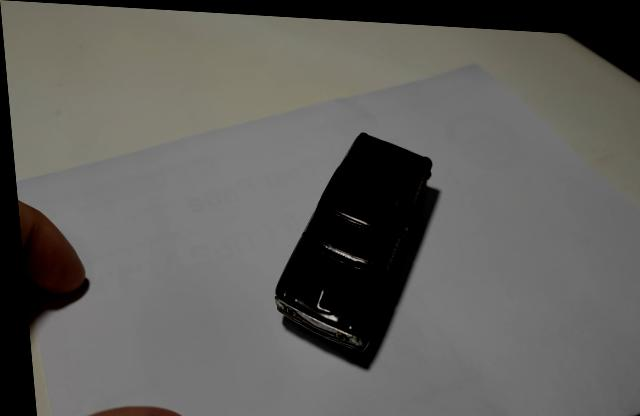01_FORD: (269, 129, 438, 349)
